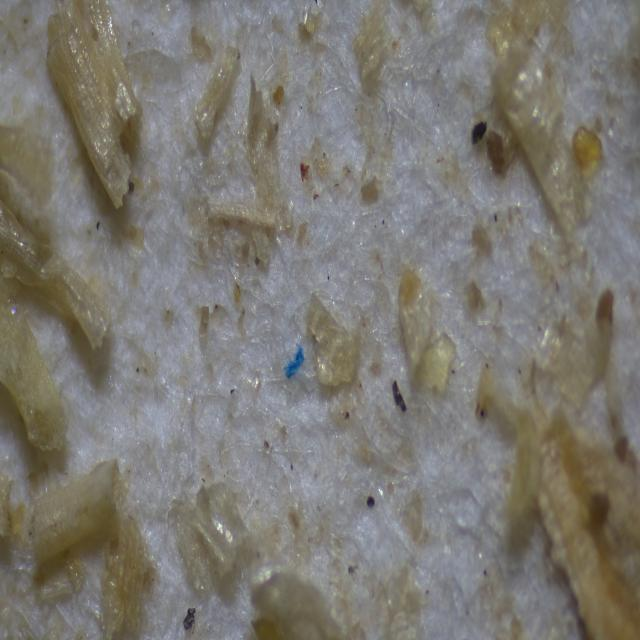microplastic: (278, 343, 314, 382)
